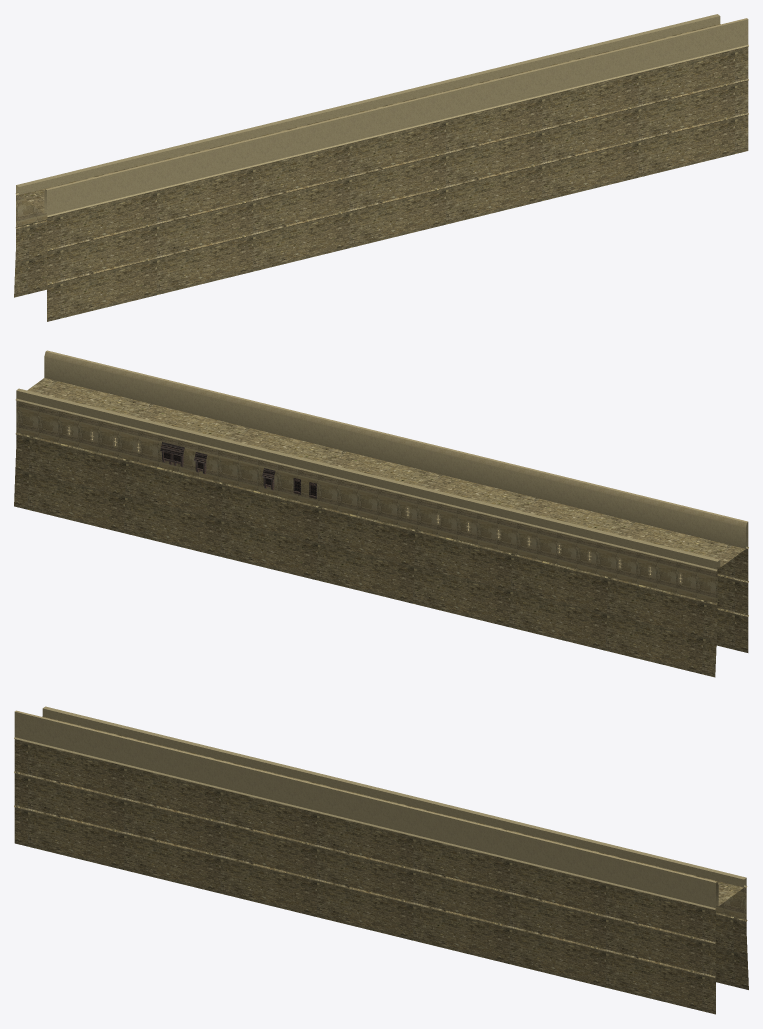
File: Wall.fbx
3 renders of one model, top to bottom at view 1: azimuth 30°, elevation 25°; view 2: azimuth 150°, elevation 25°; view 3: azimuth 330°, elevation 25°, orthographic.
Visible parts, largest first — view 1: Wall; view 2: Wall; view 3: Wall.
Boxes of the visible parts, x1=… form: Wall: x1=14, y1=14, x2=748, y2=321; Wall: x1=14, y1=350, x2=748, y2=677; Wall: x1=14, y1=706, x2=748, y2=1014.
Bounding box in the file's own units: 83166 × 14917 × 6934.
